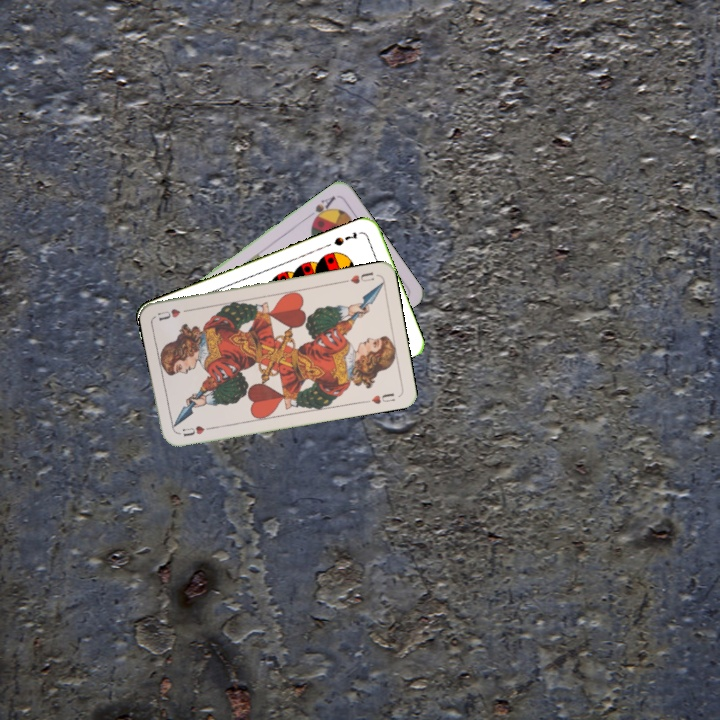HU: (339, 268, 376, 286), (179, 422, 215, 439)
S7: (330, 227, 360, 248)
SA: (308, 192, 338, 225)
